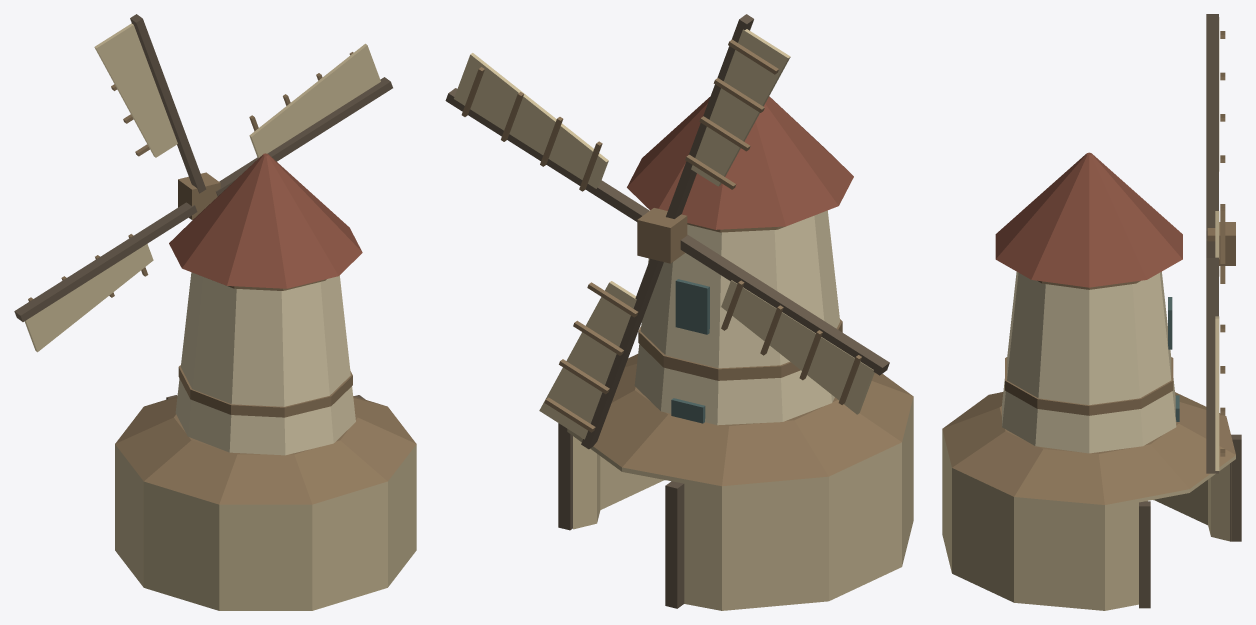
The model's file is Town_Windmill_Cover.fbx.
3 views of the same model, side by side, from view 1: azimuth 30°, elevation 25°; view 2: azimuth 150°, elevation 25°; view 3: azimuth 270°, elevation 25° (orthographic). The views are drawn at different scales.
Visible parts, largest first — view 1: OpenBuildings_Town_Windmill_Cover; view 2: OpenBuildings_Town_Windmill_Cover; view 3: OpenBuildings_Town_Windmill_Cover.
Part boxes in pixels (bbox=[...]): OpenBuildings_Town_Windmill_Cover: bbox=[14, 14, 416, 610]; OpenBuildings_Town_Windmill_Cover: bbox=[445, 14, 913, 610]; OpenBuildings_Town_Windmill_Cover: bbox=[942, 14, 1241, 610].
Size of the model in its own units: 5.14 by 6.64 by 3.59.
